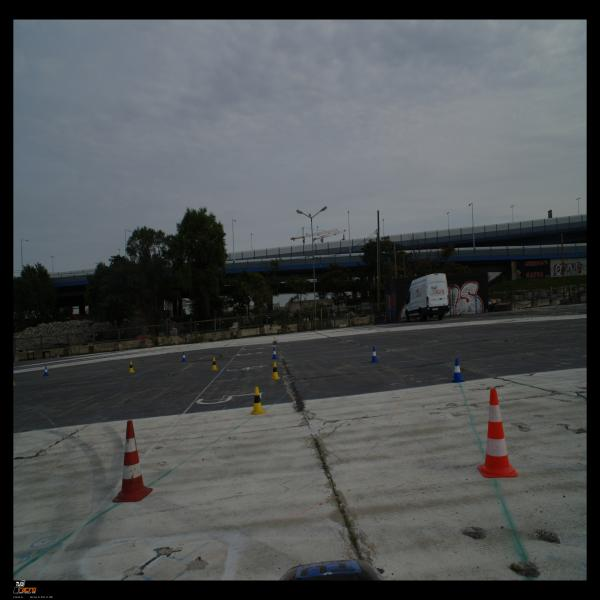blue_cone: (450, 358, 465, 383), (370, 347, 379, 363), (271, 348, 278, 359), (43, 366, 49, 376), (181, 352, 187, 362)
large_orange_cone: (478, 389, 518, 478), (112, 420, 153, 503)
yellow_cone: (250, 386, 266, 414), (270, 362, 281, 380), (210, 357, 218, 371), (128, 361, 135, 373)
